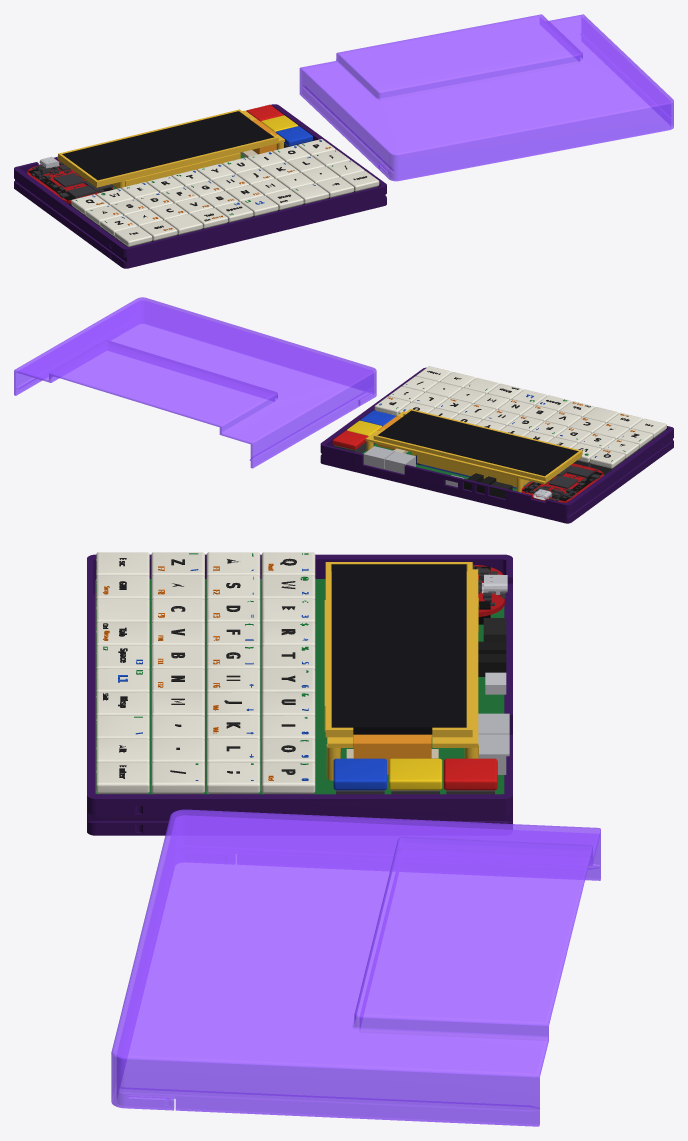
The model's file is beside_grape.glb.
3 renders of one model, top to bottom at view 1: azimuth 30°, elevation 25°; view 2: azimuth 150°, elevation 25°; view 3: azimuth 270°, elevation 25°, orthographic. The views are drawn at different scales.
Parts seen in each view (by area): view 1: Lid, Internals, Tray; view 2: Lid, Internals, Tray; view 3: Lid, Internals, Tray.
Boxes of the visible parts, x1,y1,x2,y2 form: Lid: [299, 14, 673, 181]; Internals: [27, 104, 379, 247]; Tray: [14, 104, 386, 268]; Lid: [14, 297, 376, 468]; Internals: [332, 366, 666, 502]; Tray: [320, 367, 673, 523]; Lid: [111, 809, 600, 1126]; Internals: [95, 552, 509, 794]; Tray: [87, 554, 512, 835].
Bounding box in the file's own units: 0.3903 × 0.0227 × 0.1583.
